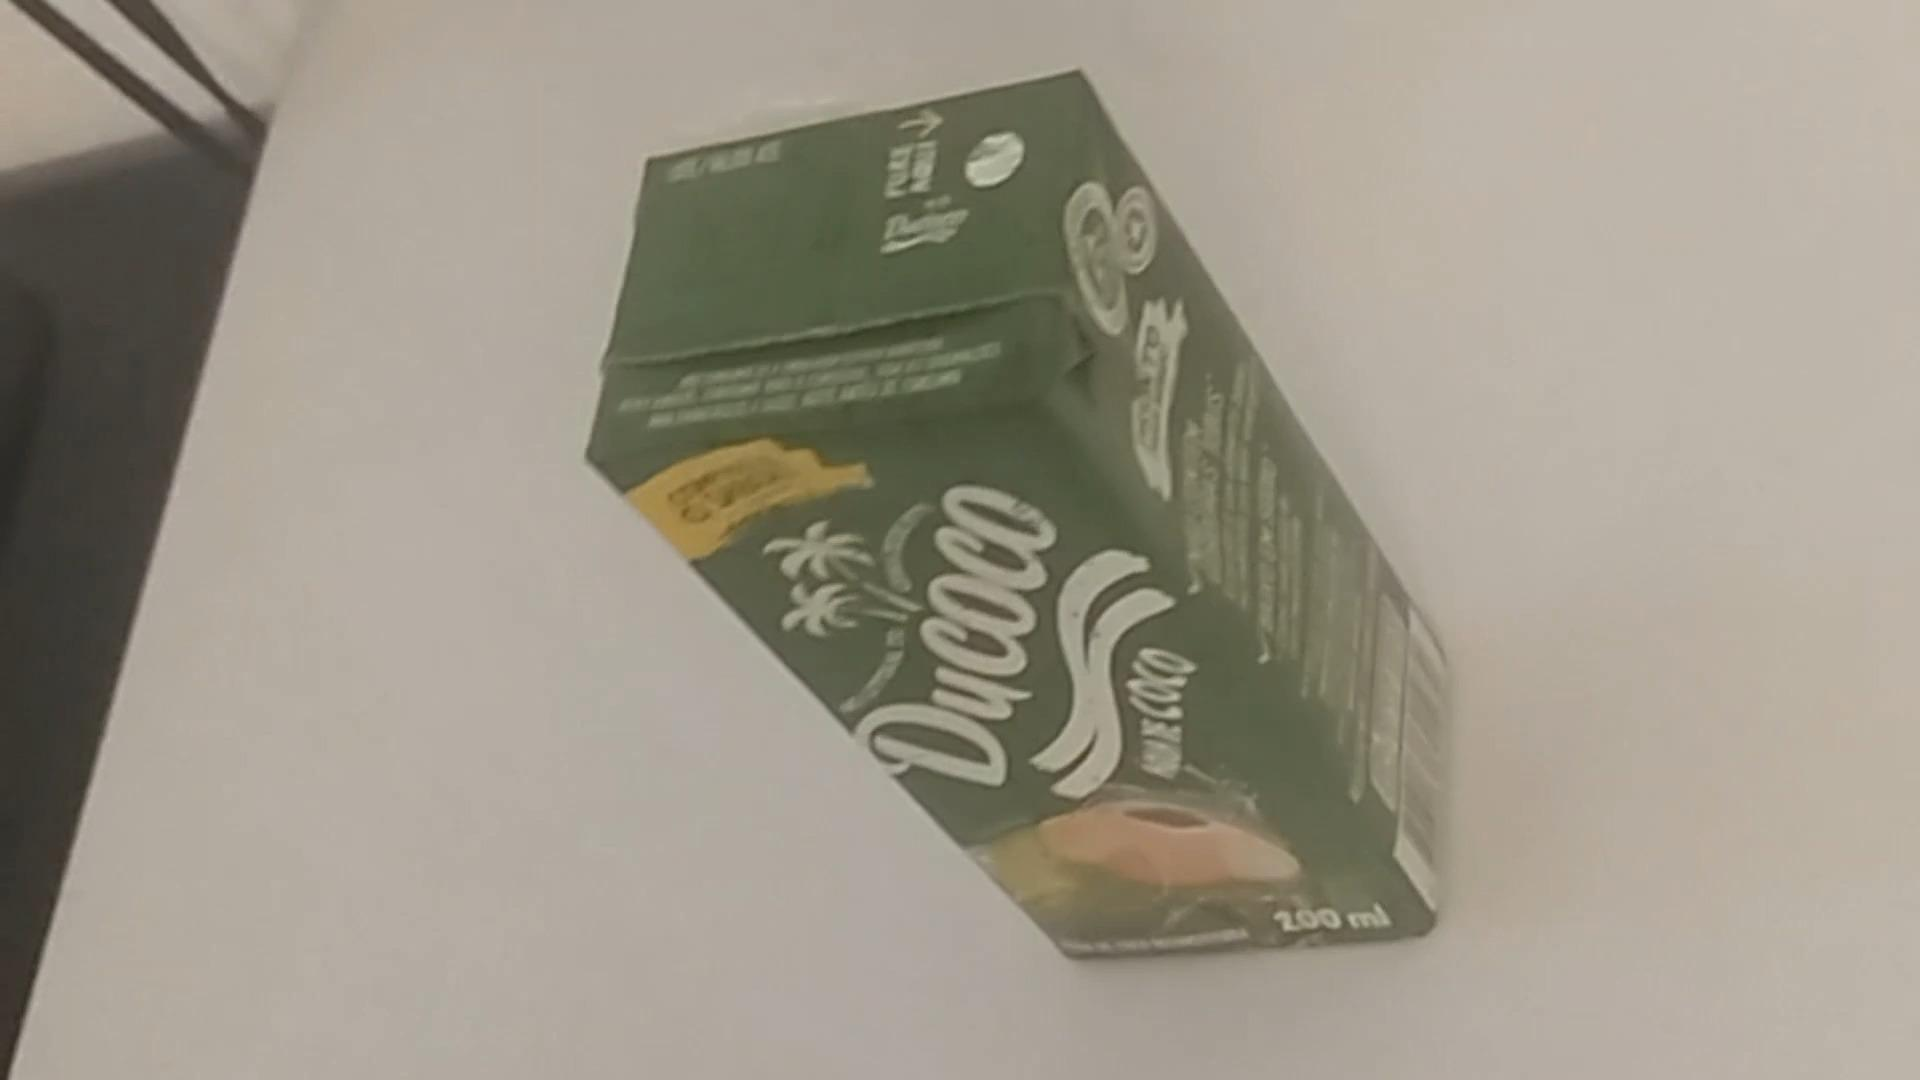coco: (583, 66, 1440, 971)
